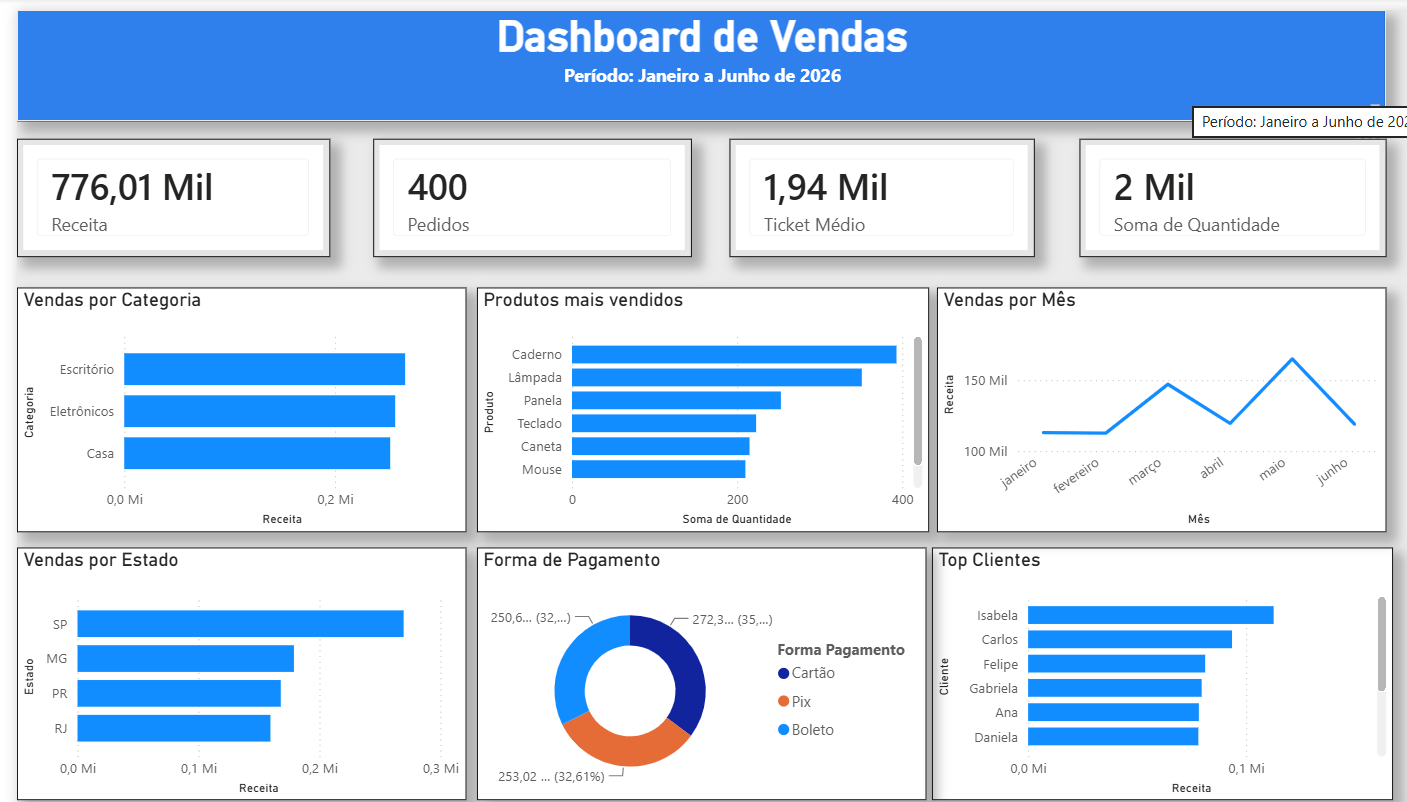

Layout of this report page (visuals, bound fields, positions):
{"tool":"powerbi","page":{"name":"Página 1","canvas":[1280,720],"ordinal":0},"visuals":[{"type":"barChart","title":"Vendas por Categoria","fields":{"Category":["Sheet.Categoria"],"Y":["Sheet.Receita"]},"box":[0,249.3,404,220],"z":0},{"type":"barChart","title":"Produtos mais vendidos","fields":{"Category":["Sheet.Produto"],"Y":["Sum(Sheet.Quantidade)"]},"box":[413.3,249.3,406.7,220],"z":1},{"type":"barChart","title":"Vendas por Estado","fields":{"Category":["Sheet.Estado"],"Y":["Sheet.Receita"]},"box":[0,482.7,404,228],"z":2},{"type":"barChart","title":"Top Clientes","fields":{"Category":["Sheet.Cliente"],"Y":["Sheet.Receita"]},"box":[822.7,482.7,414.7,228],"z":5},{"type":"lineChart","title":"Vendas por Mês","fields":{"Category":["Sheet.Data.Variation.Hierarquia de datas.Mês"],"Y":["Sheet.Receita"]},"box":[826.7,249.3,404,220],"z":6},{"type":"donutChart","title":" Forma de Pagamento","fields":{"Category":["Sheet.Forma Pagamento"],"Y":["Sheet.Receita"]},"box":[413.3,482.7,404,228],"z":7},{"type":"textbox","title":"Dashboard de Vendas","box":[0,0,1230.7,100],"z":8},{"type":"cardVisual","fields":{"Data":["Sheet.Receita"]},"box":[0,116,281.3,106.7],"z":9},{"type":"cardVisual","fields":{"Data":["Sheet.Pedidos"]},"box":[320,116,286.7,106.7],"z":10},{"type":"cardVisual","fields":{"Data":["Sheet.Ticket Médio"]},"box":[640,116,274.7,106.7],"z":11},{"type":"cardVisual","fields":{"Data":["Sum(Sheet.Quantidade)"]},"box":[954.7,116,276,106.7],"z":12}]}

Visuals, with their boxes in screenshot pixels (x1, y1, x2, y2), scaled from the page's 1280x720 canvas onto the 1407x802 screenshot:
"Vendas por Categoria" barChart: bbox=[0, 278, 444, 523]
"Produtos mais vendidos" barChart: bbox=[454, 278, 901, 523]
"Vendas por Estado" barChart: bbox=[0, 538, 444, 792]
"Top Clientes" barChart: bbox=[904, 538, 1360, 792]
"Vendas por Mês" lineChart: bbox=[909, 278, 1353, 523]
" Forma de Pagamento" donutChart: bbox=[454, 538, 898, 792]
"Dashboard de Vendas" textbox: bbox=[0, 0, 1353, 111]
cardVisual - Sheet.Receita: bbox=[0, 129, 309, 248]
cardVisual - Sheet.Pedidos: bbox=[352, 129, 667, 248]
cardVisual - Sheet.Ticket Médio: bbox=[704, 129, 1005, 248]
cardVisual - Sum(Sheet.Quantidade): bbox=[1049, 129, 1353, 248]
